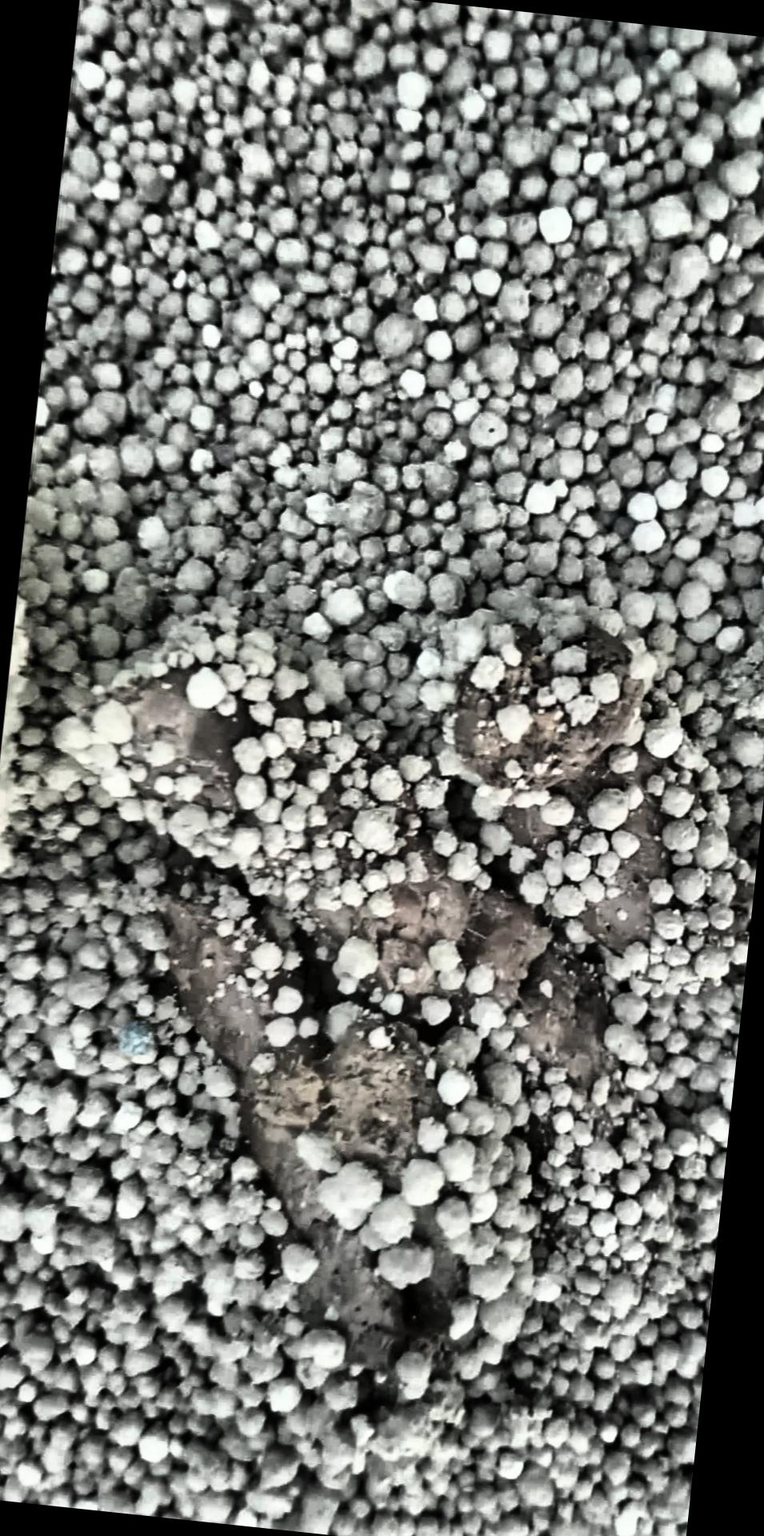poop: (105, 634, 612, 1373), (454, 630, 666, 947)
